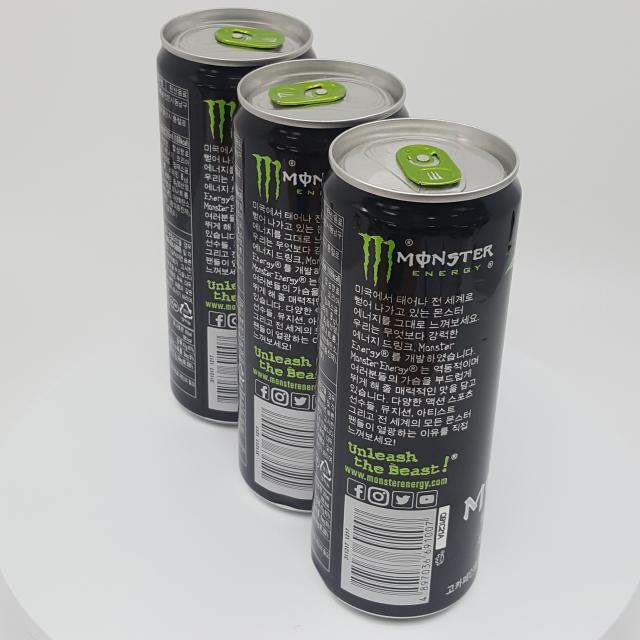--------355ML: (310, 118, 522, 618)
